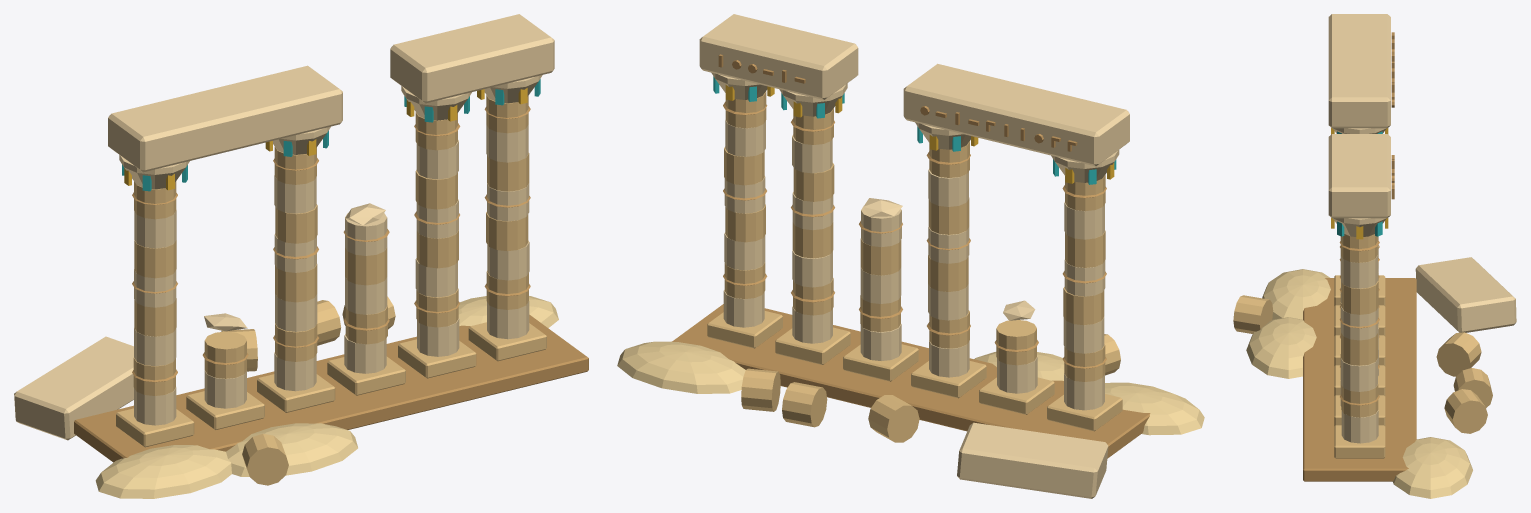
Rendered from Colonnade.fbx.
The picture shows the model from 3 angles, left to right: view 1: azimuth 30°, elevation 25°; view 2: azimuth 150°, elevation 25°; view 3: azimuth 270°, elevation 25°; orthographic projection. The views are drawn at different scales.
Visible parts, largest first — view 1: Colonnade_SandstoneLight, Colonnade_Sandstone, Colonnade_SandstoneDark, Colonnade_Sand, Colonnade_Turquoise, Colonnade_Gold; view 2: Colonnade_SandstoneLight, Colonnade_Sandstone, Colonnade_SandstoneDark, Colonnade_Sand, Colonnade_Turquoise, Colonnade_Gold; view 3: Colonnade_SandstoneLight, Colonnade_SandstoneDark, Colonnade_Sandstone, Colonnade_Sand.
Part boxes in pixels (bbox=[...]): Colonnade_SandstoneLight: bbox=[14, 14, 554, 440]; Colonnade_Sandstone: bbox=[116, 95, 546, 485]; Colonnade_SandstoneDark: bbox=[74, 106, 588, 462]; Colonnade_Sand: bbox=[95, 296, 558, 498]; Colonnade_Turquoise: bbox=[122, 79, 540, 191]; Colonnade_Gold: bbox=[124, 88, 527, 190]; Colonnade_SandstoneLight: bbox=[699, 14, 1129, 498]; Colonnade_Sandstone: bbox=[707, 91, 1122, 442]; Colonnade_SandstoneDark: bbox=[672, 54, 1150, 458]; Colonnade_Sand: bbox=[617, 341, 1204, 435]; Colonnade_Turquoise: bbox=[713, 76, 1116, 184]; Colonnade_Gold: bbox=[725, 85, 1114, 183]; Colonnade_SandstoneLight: bbox=[1328, 14, 1516, 443]; Colonnade_SandstoneDark: bbox=[1303, 32, 1416, 481]; Colonnade_Sandstone: bbox=[1233, 234, 1492, 458]; Colonnade_Sand: bbox=[1246, 269, 1472, 498].
Bounding box in the file's own units: 37.6 × 22.64 × 19.96.
